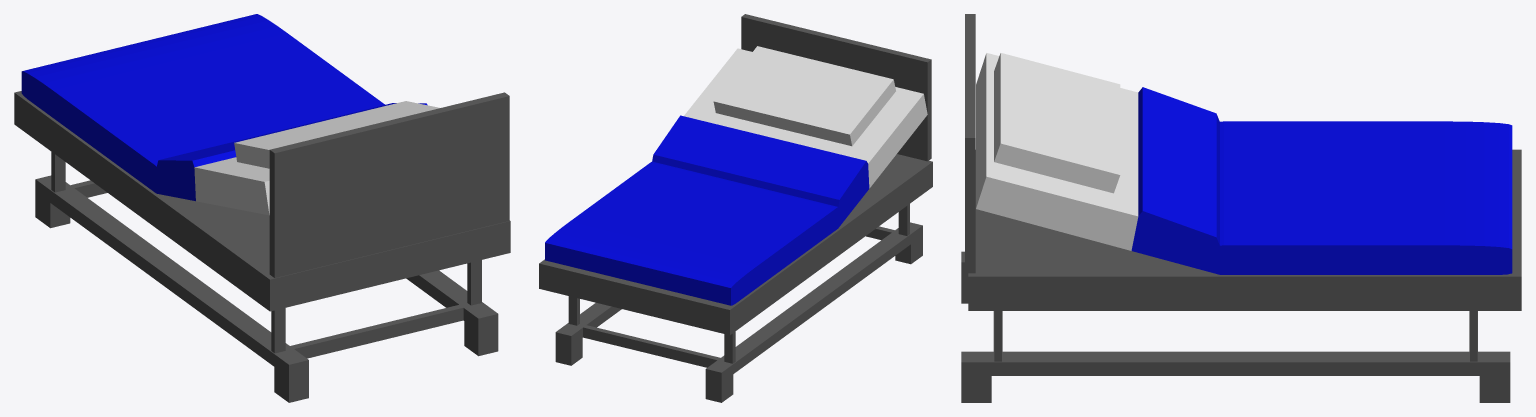
The model's file is HospitalBed.fbx.
The picture shows the model from 3 angles, left to right: view 1: azimuth 30°, elevation 25°; view 2: azimuth 150°, elevation 25°; view 3: azimuth 270°, elevation 25°; orthographic projection. The views are drawn at different scales.
Visible parts, largest first — view 1: Cube, Cube.011, Cube.002, Cube.009, Cube.001, Cube.010, Cube.007, Cube.004, Cube.006, Cube.003; view 2: Cube, Cube.002, Cube.001, Cube.011, Cube.009, Cube.008, Cube.010, Cube.003; view 3: Cube, Cube.002, Cube.010, Cube.001, Cube.011.
Boxes of the visible parts, x1=… form: Cube: x1=21, y1=14, x2=427, y2=215; Cube.011: x1=269, y1=92, x2=509, y2=277; Cube.002: x1=14, y1=91, x2=510, y2=311; Cube.009: x1=35, y1=175, x2=308, y2=402; Cube.001: x1=234, y1=101, x2=439, y2=168; Cube.010: x1=406, y1=270, x2=498, y2=356; Cube.007: x1=290, y1=304, x2=463, y2=358; Cube.004: x1=271, y1=308, x2=285, y2=353; Cube.006: x1=467, y1=260, x2=481, y2=305; Cube.003: x1=51, y1=152, x2=65, y2=192; Cube: x1=545, y1=48, x2=927, y2=305; Cube.002: x1=539, y1=154, x2=932, y2=335; Cube.001: x1=713, y1=46, x2=895, y2=146; Cube.011: x1=741, y1=14, x2=931, y2=161; Cube.009: x1=705, y1=222, x2=922, y2=402; Cube.008: x1=568, y1=323, x2=732, y2=367; Cube.010: x1=555, y1=302, x2=621, y2=365; Cube.003: x1=724, y1=331, x2=735, y2=363; Cube: x1=976, y1=53, x2=1512, y2=274; Cube.002: x1=968, y1=149, x2=1521, y2=310; Cube.010: x1=961, y1=351, x2=1510, y2=402; Cube.001: x1=994, y1=53, x2=1120, y2=193; Cube.011: x1=965, y1=14, x2=975, y2=273.
Size of the model in its own units: 977 by 976 by 1820.
